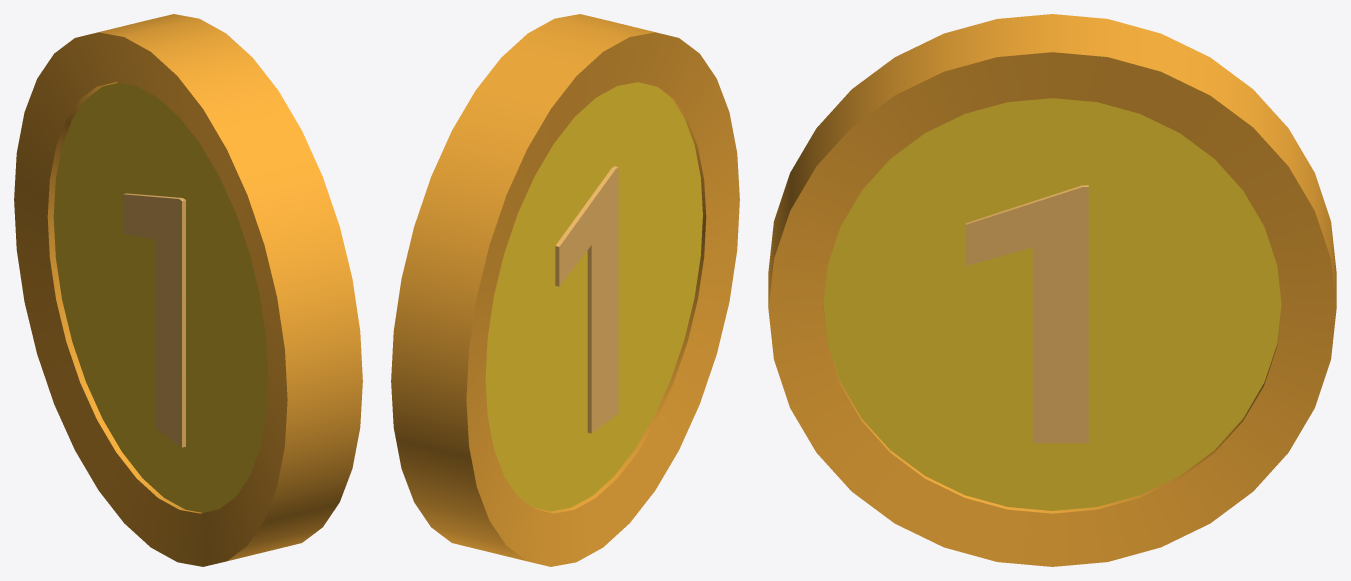
Rendered from moneta2.fbx.
The picture shows the model from 3 angles, left to right: view 1: azimuth 30°, elevation 25°; view 2: azimuth 150°, elevation 25°; view 3: azimuth 270°, elevation 25°; orthographic projection. The views are drawn at different scales.
Parts seen in each view (by area): view 1: Curve.001; view 2: Curve.001; view 3: Curve.001.
Boxes of the visible parts, <box> form: Curve.001: <box>14,14,362,566</box>; Curve.001: <box>391,14,739,566</box>; Curve.001: <box>768,14,1336,566</box>.
Bounding box in the file's own units: 0.2459 × 1.55 × 1.55.
